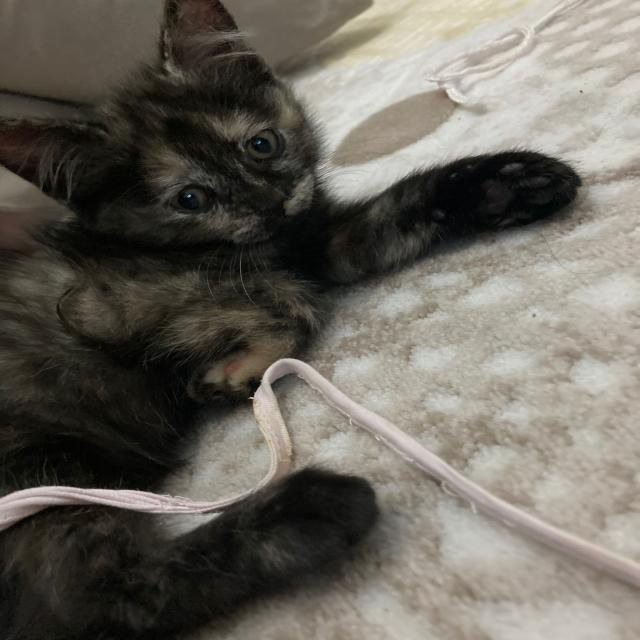authorized: (0, 1, 582, 638)
